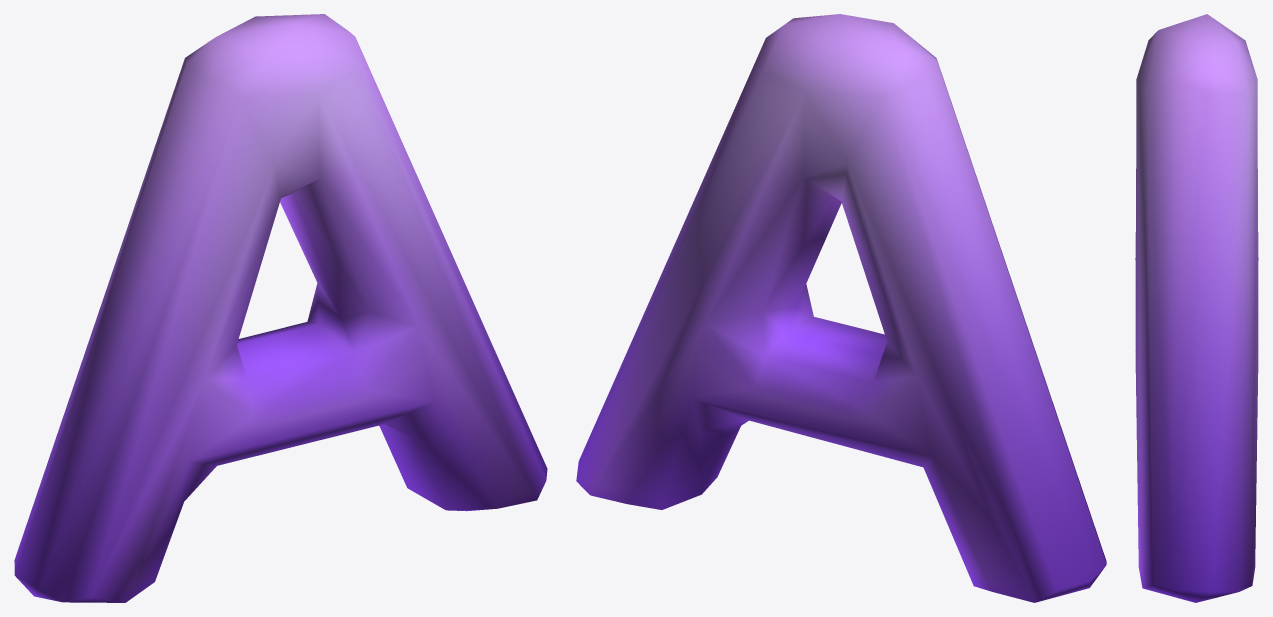
3 renders of one model, left to right at view 1: azimuth 30°, elevation 25°; view 2: azimuth 150°, elevation 25°; view 3: azimuth 270°, elevation 25°, orthographic. The views are drawn at different scales.
Visible parts, largest first — view 1: Processed_Mesh0_Geometry; view 2: Processed_Mesh0_Geometry; view 3: Processed_Mesh0_Geometry.
Boxes of the visible parts, bbox=[...] form: Processed_Mesh0_Geometry: bbox=[14, 14, 547, 602]; Processed_Mesh0_Geometry: bbox=[576, 14, 1106, 602]; Processed_Mesh0_Geometry: bbox=[1135, 14, 1258, 602].
Size of what is drawn, in the model's own units: 0.0881 by 0.0847 by 0.0204.
Materials: 1 (1 with a texture image).
